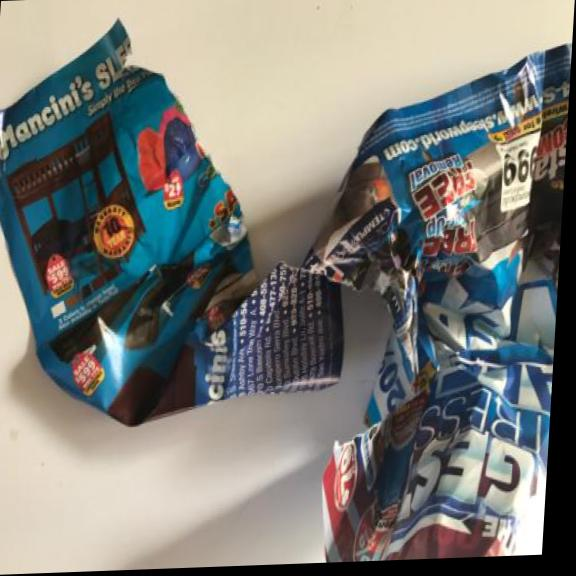Kertas: (0, 3, 373, 440), (288, 34, 573, 564)
